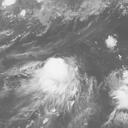cyclone: (26, 57, 80, 102)
